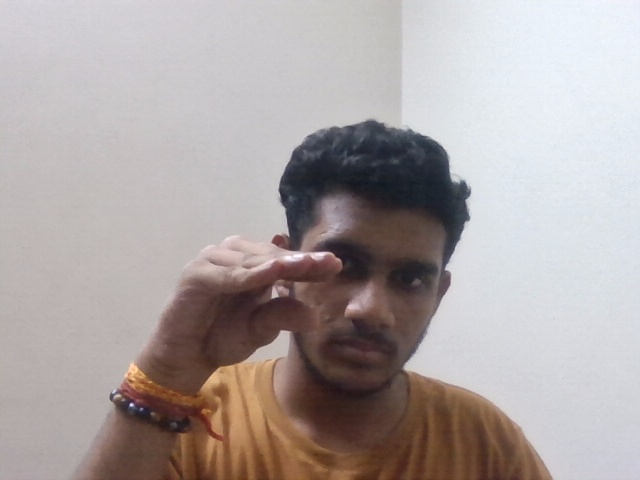no: (139, 222, 372, 381)
